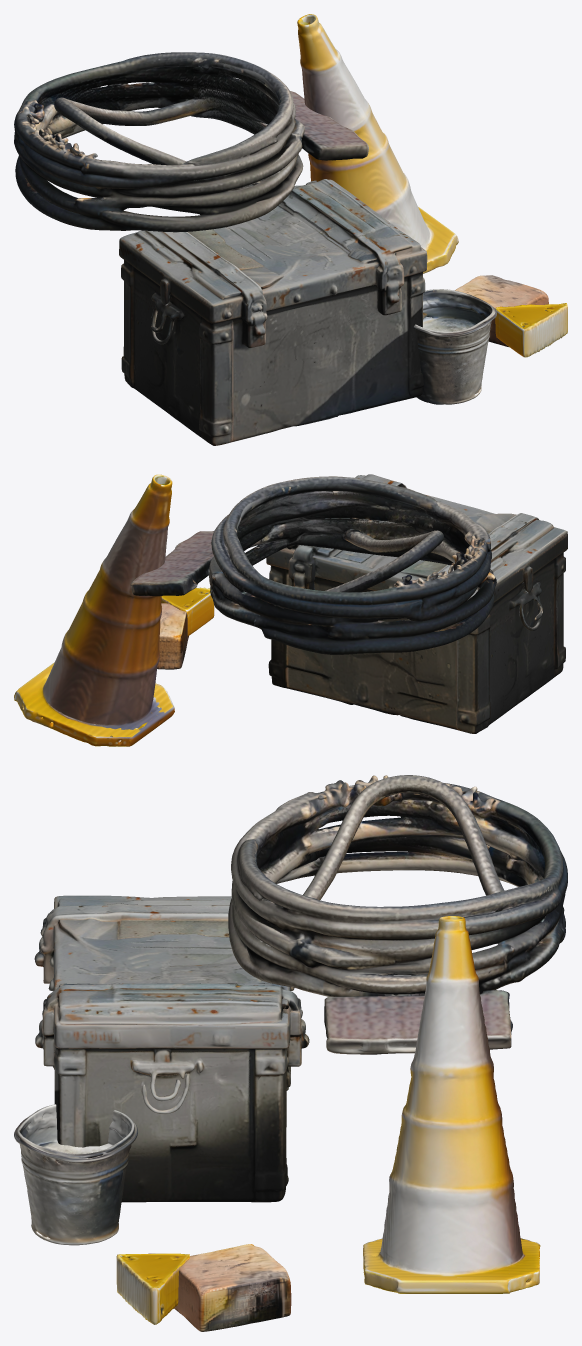
Rendered from midi_textured.glb.
3 renders of one model, top to bottom at view 1: azimuth 30°, elevation 25°; view 2: azimuth 150°, elevation 25°; view 3: azimuth 270°, elevation 25°, orthographic. The views are drawn at different scales.
Visible parts, largest first — view 1: geometry_05109af008cb8, geometry_0bf2e71e3652a, geometry_0, geometry_08aa8a2591f4e, geometry_0b03d8b739225; view 2: geometry_0bf2e71e3652a, geometry_05109af008cb8, geometry_0, geometry_0b03d8b739225; view 3: geometry_05109af008cb8, geometry_0bf2e71e3652a, geometry_0, geometry_08aa8a2591f4e, geometry_0b03d8b739225.
Part boxes in pixels (x1=…): geometry_05109af008cb8: x1=119, y1=179, x2=427, y2=445; geometry_0bf2e71e3652a: x1=14, y1=52, x2=368, y2=232; geometry_0: x1=297, y1=14, x2=567, y2=357; geometry_08aa8a2591f4e: x1=413, y1=289, x2=496, y2=404; geometry_0b03d8b739225: x1=455, y1=275, x2=548, y2=347; geometry_0bf2e71e3652a: x1=130, y1=476, x2=496, y2=654; geometry_05109af008cb8: x1=266, y1=474, x2=567, y2=733; geometry_0: x1=14, y1=474, x2=214, y2=746; geometry_0b03d8b739225: x1=157, y1=603, x2=188, y2=669; geometry_05109af008cb8: x1=34, y1=895, x2=309, y2=1202; geometry_0bf2e71e3652a: x1=228, y1=775, x2=567, y2=1054; geometry_0: x1=116, y1=916, x2=540, y2=1324; geometry_08aa8a2591f4e: x1=14, y1=1104, x2=137, y2=1245; geometry_0b03d8b739225: x1=174, y1=1244, x2=291, y2=1331.
Bounding box in the file's own units: 1.91 × 1.12 × 1.68.
Materials: 5 (5 with a texture image).
